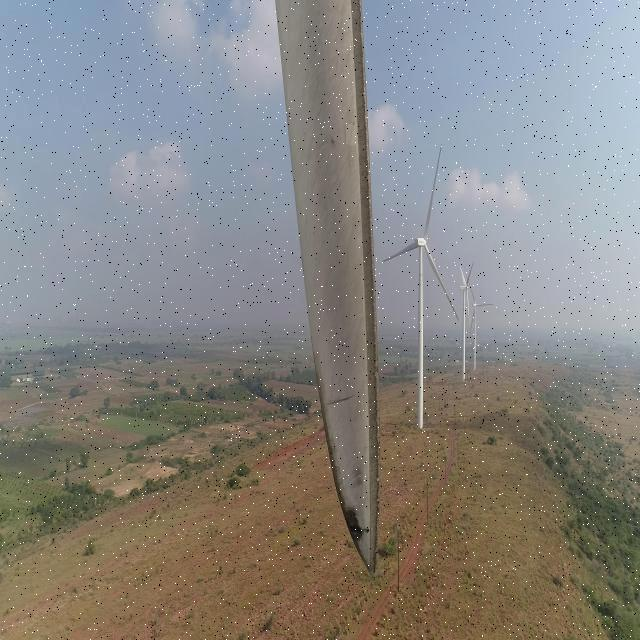Dirt: (297, 0, 390, 572)
Oil LEAKAGE: (314, 359, 379, 548)
Pin Hole: (328, 134, 339, 146)
